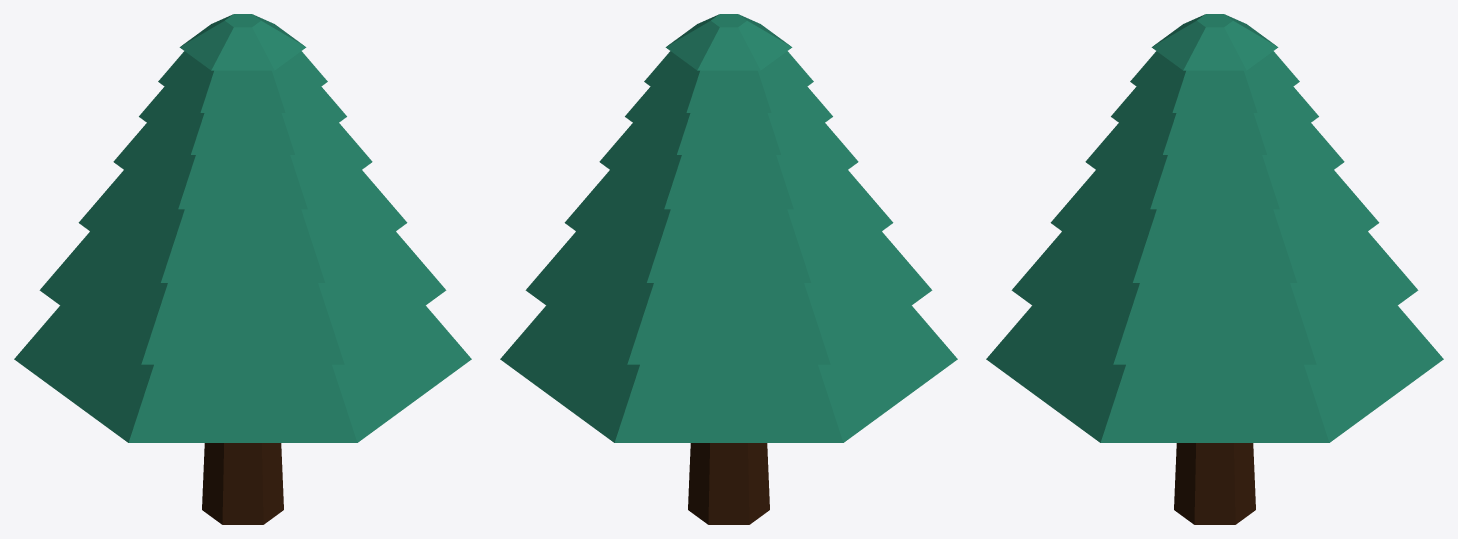
File: tree_2.fbx
3 renders of one model, left to right at view 1: azimuth 30°, elevation 25°; view 2: azimuth 150°, elevation 25°; view 3: azimuth 270°, elevation 25°, orthographic.
Visible parts, largest first — view 1: Cylinder; view 2: Cylinder; view 3: Cylinder.
Part boxes in pixels (<box>): Cylinder: <box>14,14,471,524</box>; Cylinder: <box>500,14,957,524</box>; Cylinder: <box>986,14,1443,524</box>.
Size of the model in its own units: 404 by 550 by 467.
